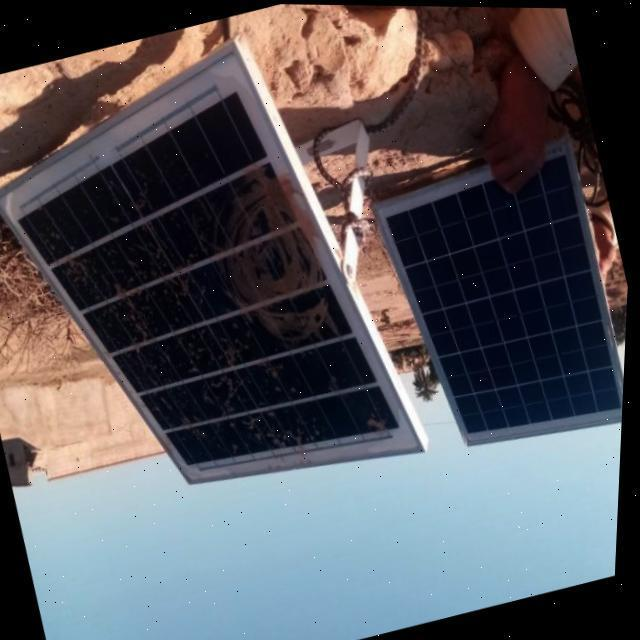Normal Solar Panel: (360, 138, 635, 470)
